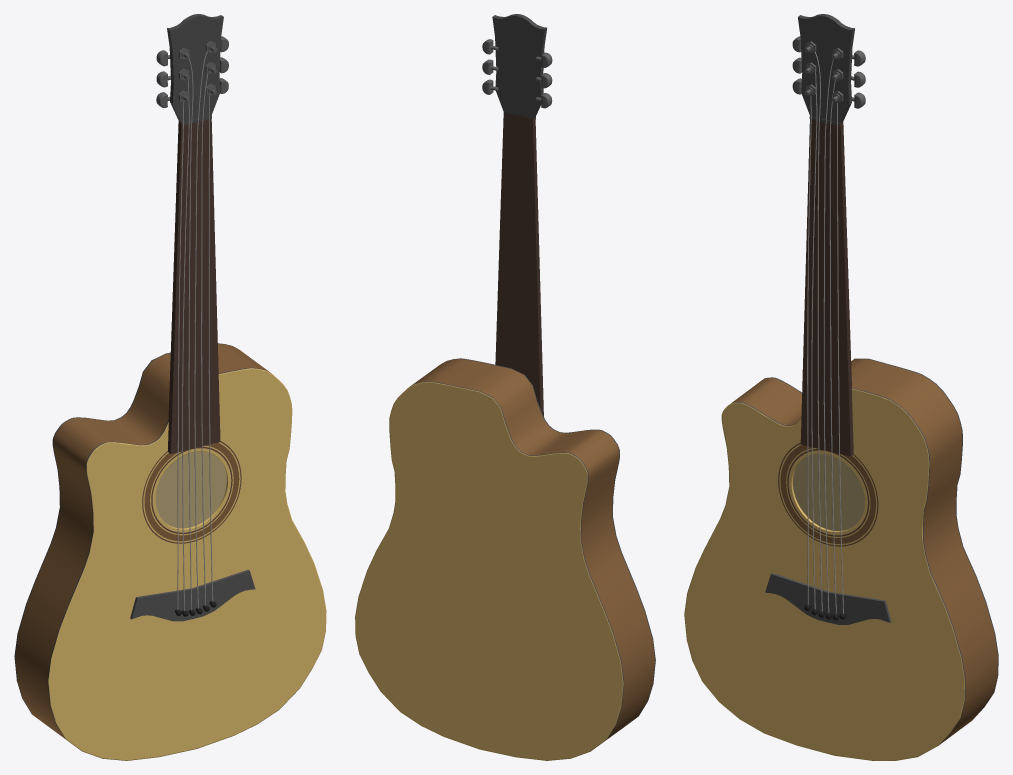
File: guitar.glb
3 views of the same model, side by side, from view 1: azimuth 30°, elevation 25°; view 2: azimuth 150°, elevation 25°; view 3: azimuth 330°, elevation 25° (orthographic). The views are drawn at different scales.
Visible parts, largest first — view 1: guitar_base, guitar_handle, guitar_strings, guitar_cable fixing base, guitar_adjust strings, guitar_freeze strings; view 2: guitar_base, guitar_handle, guitar_adjust strings; view 3: guitar_base, guitar_handle, guitar_strings, guitar_cable fixing base, guitar_adjust strings, guitar_freeze strings.
Boxes of the visible parts, x1,y1,x2,y2 form: guitar_base: (14,343,326,760); guitar_handle: (167,14,223,453); guitar_strings: (177,51,213,610); guitar_cable fixing base: (130,569,255,621); guitar_adjust strings: (156,36,228,107); guitar_freeze strings: (178,41,217,102); guitar_base: (355,358,655,760); guitar_handle: (492,14,547,416); guitar_adjust strings: (482,39,552,108); guitar_base: (684,358,998,760); guitar_handle: (798,14,854,456); guitar_strings: (807,52,843,614); guitar_cable fixing base: (765,573,891,624); guitar_adjust strings: (792,36,865,108); guitar_freeze strings: (804,41,843,102).
Bounding box in the file's own units: 1.28 × 3.23 × 0.3473.
